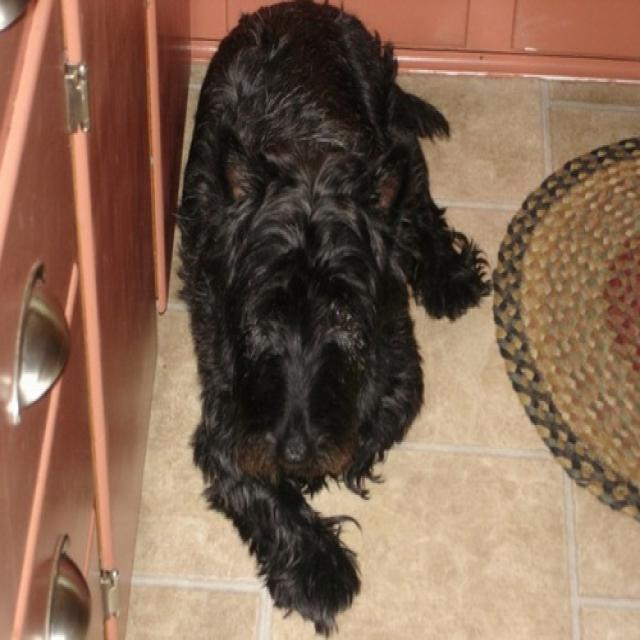dog: (220, 126, 408, 473)
